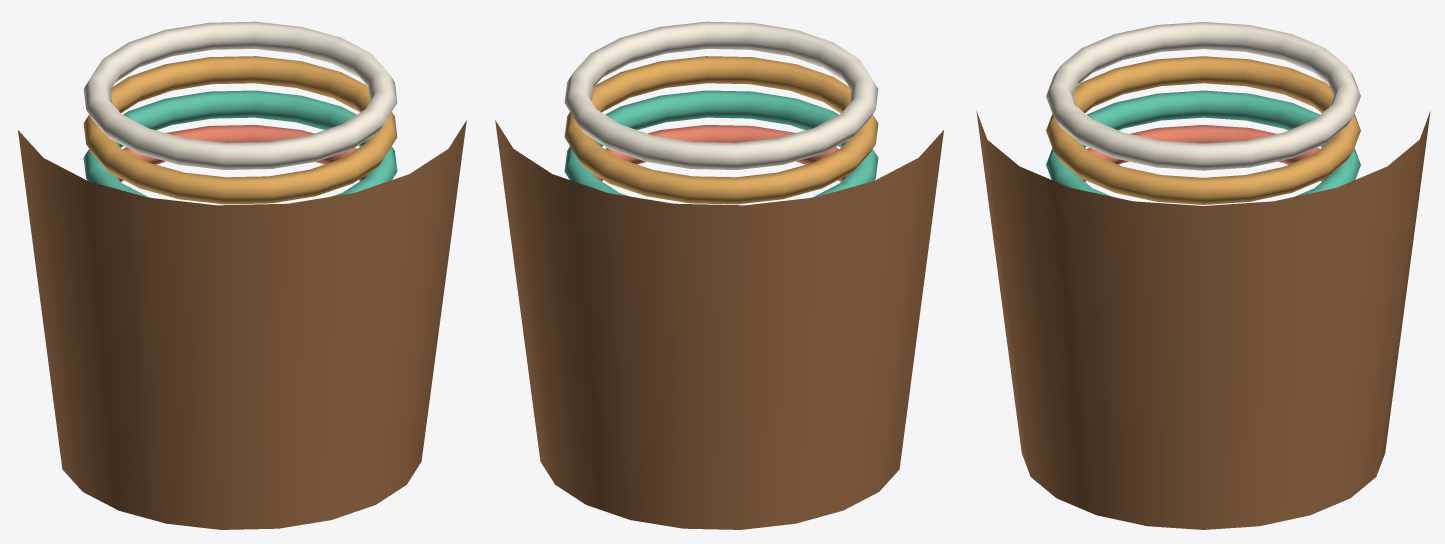
Rendered from cable-tidy-bin.glb.
The picture shows the model from 3 angles, left to right: view 1: azimuth 30°, elevation 25°; view 2: azimuth 150°, elevation 25°; view 3: azimuth 270°, elevation 25°; orthographic projection.
Parts seen in each view (by area): view 1: cable_tidy_bin; view 2: cable_tidy_bin; view 3: cable_tidy_bin.
Boxes of the visible parts, x1=… form: cable_tidy_bin: x1=18, y1=21, x2=466, y2=529; cable_tidy_bin: x1=495, y1=21, x2=943, y2=529; cable_tidy_bin: x1=976, y1=22, x2=1430, y2=529.
Bounding box in the file's own units: 0.6 × 0.5356 × 0.6.
